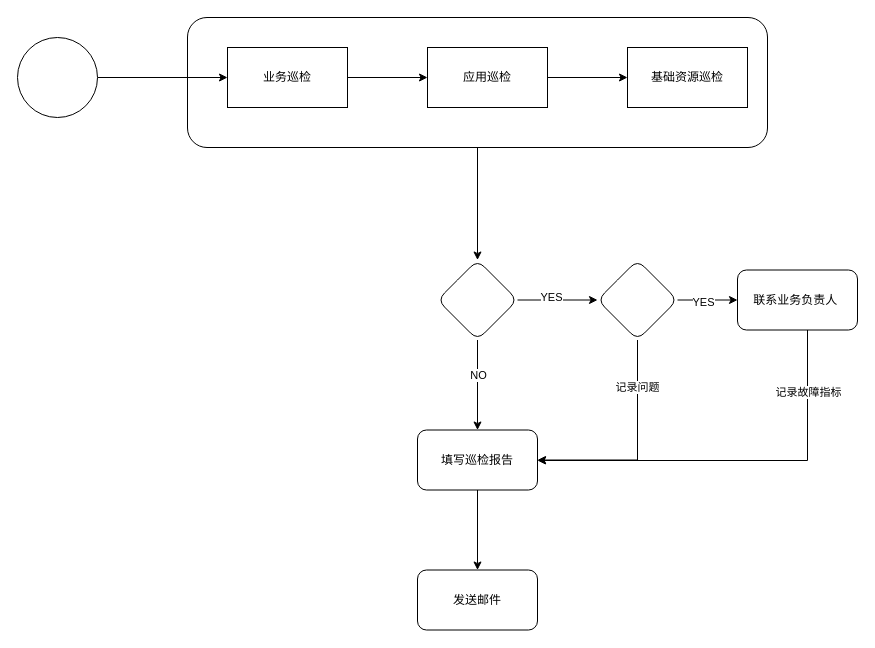
Image size: 875x648. Some labels were removed from this diagram. Here are the shapes that lost their labels. From the top down, the box of each, then its label:
(16, 36, 98, 118): 9:00AM START
(436, 259, 518, 340): 是否异常
(596, 259, 678, 340): 是否影响业务
